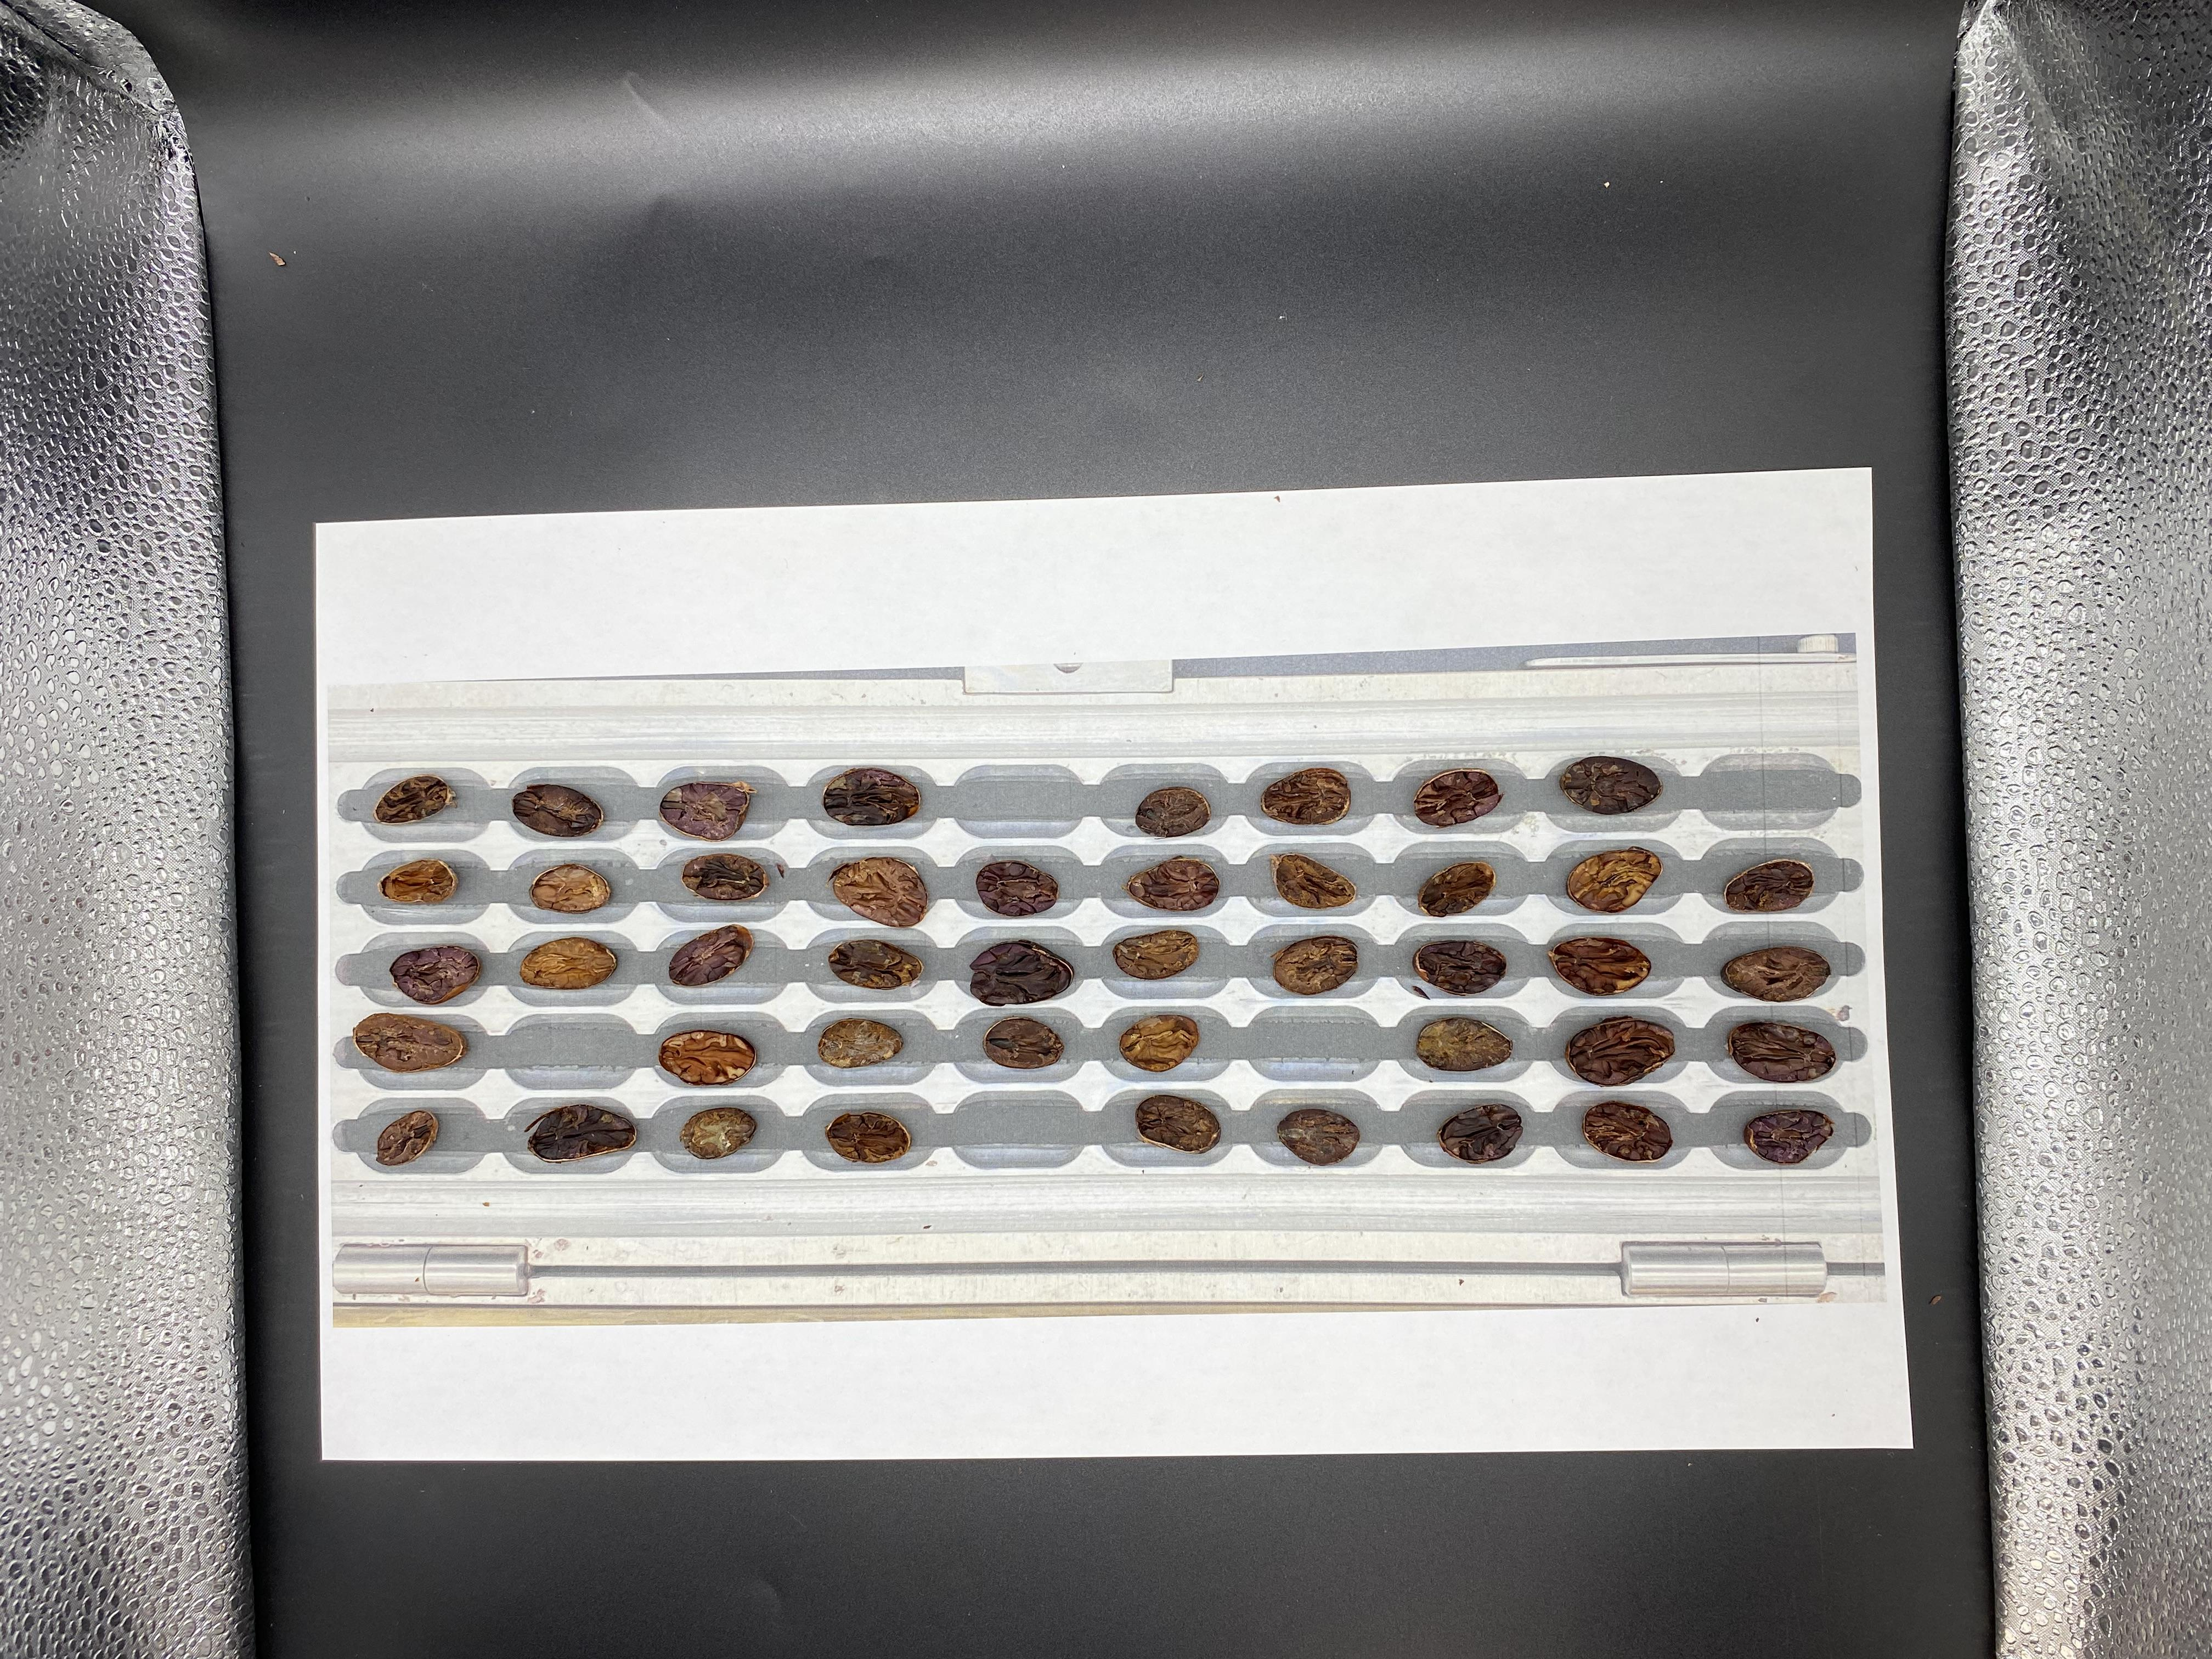Brown - G1: (1881, 514, 1944, 556), (1872, 471, 1930, 509), (1418, 521, 1479, 554), (1277, 430, 1325, 464)
Brown - G2: (1505, 432, 1566, 477), (1881, 429, 1937, 467), (1888, 558, 1942, 596), (1726, 385, 1778, 423), (1658, 432, 1712, 467), (1806, 432, 1853, 471), (1731, 430, 1782, 465), (1505, 563, 1555, 596), (1653, 516, 1702, 549)
Brown - G3: (1264, 509, 1331, 551), (1959, 477, 2022, 512), (1730, 472, 1784, 509), (1350, 474, 1406, 509), (1662, 554, 1714, 589), (1275, 558, 1317, 598), (1585, 514, 1632, 547), (1651, 471, 1703, 500), (1355, 437, 1404, 467)
Insect-damaged: (1804, 516, 1862, 549)
Mouldy: (1733, 559, 1784, 598), (1430, 559, 1479, 592), (1501, 516, 1552, 547), (1663, 399, 1709, 429)
Partly Purple - G1: (1580, 474, 1639, 516), (1803, 387, 1855, 425)
Partly Purple - G2: (1352, 558, 1418, 596), (1961, 518, 2026, 554), (1501, 387, 1561, 425), (1803, 476, 1857, 511), (1580, 436, 1630, 471), (1430, 432, 1482, 460)
Partly Purple - G3: (1425, 467, 1477, 505)
Total Purple - G2: (1972, 561, 2024, 596)
Total Purple - G3: (1420, 394, 1477, 430), (1285, 477, 1338, 514)
Very Dark Brown - G1: (1273, 390, 1324, 423)
Very Dark Brown - G2: (1959, 432, 2015, 469), (1817, 558, 1865, 596)
Very Dark Brown - G3: (1876, 380, 1937, 420), (1341, 394, 1404, 430), (1507, 474, 1561, 509)
